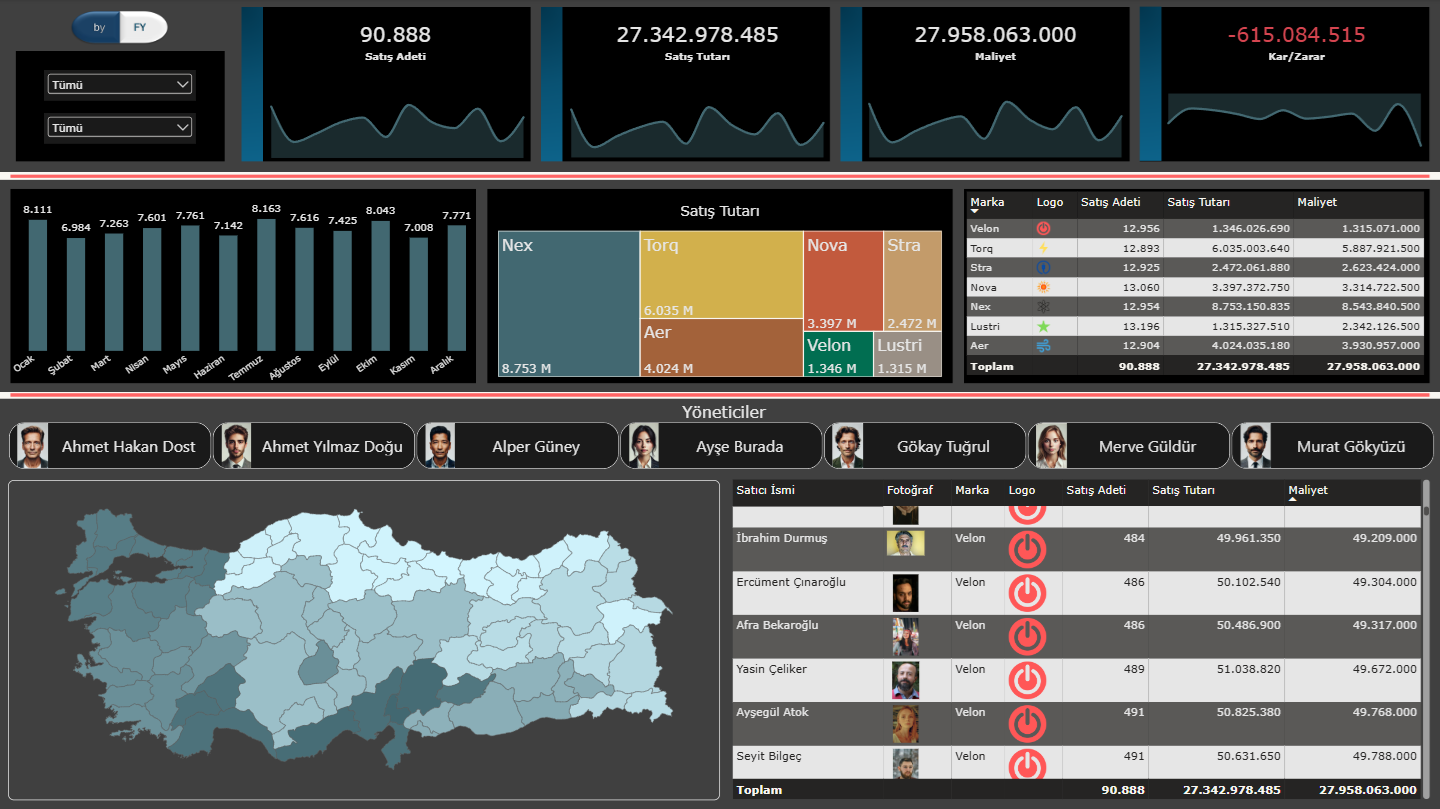

The page's visual inventory and layout, read from the dashboard file:
{"tool":"powerbi","page":{"name":"1. sayfa","canvas":[1920,1080],"ordinal":0},"visuals":[{"type":"image","box":[95.8,9.3,131.7,59.9],"z":0},{"type":"slicer","title":"Yıl","fields":{"Values":["tarih_tablosu.Date.Varyasyon.Tarih Hiyerarşisi.Yıl"]},"box":[61.2,94.4,202.2,41.2],"z":1000},{"type":"slicer","fields":{"Values":["urunler.marka"]},"box":[61.2,151.6,202.2,41.2],"z":2000},{"type":"card","fields":{"Values":["olculer.toplam_satis_adedi"]},"box":[379.1,9.3,299.3,94.4],"z":3000},{"type":"card","fields":{"Values":["olculer.toplam_satis_tutar"]},"box":[780.7,9.3,299.3,94.4],"z":4000},{"type":"card","fields":{"Values":["olculer.toplam_maliyet"]},"box":[1177.1,9.3,299.3,94.4],"z":5000},{"type":"card","fields":{"Values":["olculer.kar/zarar"]},"box":[1577.4,9.3,299.3,94.4],"z":6000},{"type":"lineChart","fields":{"Category":["tarih_tablosu.Date.Varyasyon.Tarih Hiyerarşisi.Ay"],"Y":["olculer.toplam_satis_adedi"]},"box":[335.2,103.7,392,123.7],"z":7000},{"type":"lineChart","fields":{"Category":["tarih_tablosu.Date.Varyasyon.Tarih Hiyerarşisi.Ay"],"Y":["olculer.toplam_satis_tutar"]},"box":[734.2,103.7,392,123],"z":8000},{"type":"lineChart","fields":{"Category":["tarih_tablosu.Date.Varyasyon.Tarih Hiyerarşisi.Ay"],"Y":["olculer.toplam_maliyet"]},"box":[1130.5,103.7,392,123],"z":9000},{"type":"lineChart","fields":{"Category":["tarih_tablosu.Date.Varyasyon.Tarih Hiyerarşisi.Ay"],"Y":["olculer.kar/zarar"]},"box":[1528.2,103.7,392.4,123.7],"z":10000},{"type":"columnChart","fields":{"Category":["tarih_tablosu.Date.Varyasyon.Tarih Hiyerarşisi.Ay"],"Y":["olculer.toplam_satis_adedi"]},"box":[10.6,230.1,649.1,309.9],"z":11000},{"type":"treemap","fields":{"Group":["urunler.marka"],"Values":["olculer.toplam_satis_tutar"]},"box":[649.1,255.4,622.5,263.3],"z":12000},{"type":"tableEx","fields":{"Values":["urunler.marka","urunler.logo","olculer.toplam_satis_adedi","olculer.toplam_satis_tutar","olculer.toplam_maliyet"]},"box":[1271.5,242.1,645.1,280.6],"z":13000},{"type":"advancedSlicerVisual","title":"Yöneticiler","fields":{"Values":["yoneticiler.yonetici"]},"box":[14.6,536,1902,89.1],"z":14000},{"type":"shapeMap","fields":{"Category":["bolgeler.Merkez"],"Value":["olculer.toplam_satis_adedi"]},"box":[13.3,639.8,947,425.6],"z":15000},{"type":"tableEx","fields":{"Values":["saticilar.satici","saticilar.foto","urunler.marka","urunler.logo","olculer.toplam_satis_adedi","olculer.toplam_satis_tutar","olculer.toplam_maliyet"]},"box":[960.3,625.1,960.3,454.9],"z":16000}]}

Visuals, with their boxes in screenshot pixels (x1, y1, x2, y2), scaled from the page's 1920x1080 canvas onto the 1440x809 screenshot:
image: 72 7 171 52
"Yıl" slicer: 46 71 198 102
slicer - urunler.marka: 46 114 198 144
card - olculer.toplam_satis_adedi: 284 7 509 78
card - olculer.toplam_satis_tutar: 586 7 810 78
card - olculer.toplam_maliyet: 883 7 1107 78
card - olculer.kar/zarar: 1183 7 1408 78
lineChart - tarih_tablosu.Date.Varyasyon.Tarih Hiyerarşisi.Ay x olculer.toplam_satis_adedi: 251 78 545 170
lineChart - tarih_tablosu.Date.Varyasyon.Tarih Hiyerarşisi.Ay x olculer.toplam_satis_tutar: 551 78 845 170
lineChart - tarih_tablosu.Date.Varyasyon.Tarih Hiyerarşisi.Ay x olculer.toplam_maliyet: 848 78 1142 170
lineChart - tarih_tablosu.Date.Varyasyon.Tarih Hiyerarşisi.Ay x olculer.kar/zarar: 1146 78 1439 170
columnChart - tarih_tablosu.Date.Varyasyon.Tarih Hiyerarşisi.Ay x olculer.toplam_satis_adedi: 8 172 495 404
treemap - urunler.marka x olculer.toplam_satis_tutar: 487 191 954 389
tableEx - urunler.marka x urunler.logo: 954 181 1437 392
"Yöneticiler" advancedSlicerVisual: 11 402 1437 468
shapeMap - bolgeler.Merkez x olculer.toplam_satis_adedi: 10 479 720 798
tableEx - saticilar.satici x saticilar.foto: 720 468 1439 808
